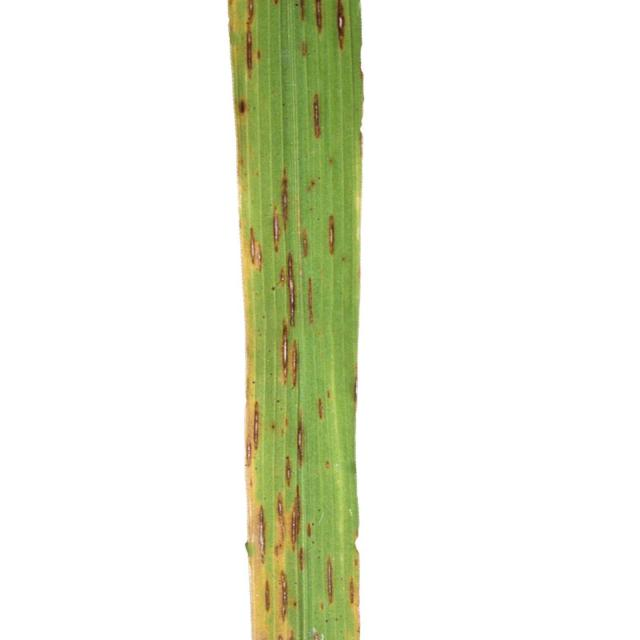Narrow brown: (212, 0, 366, 640)
